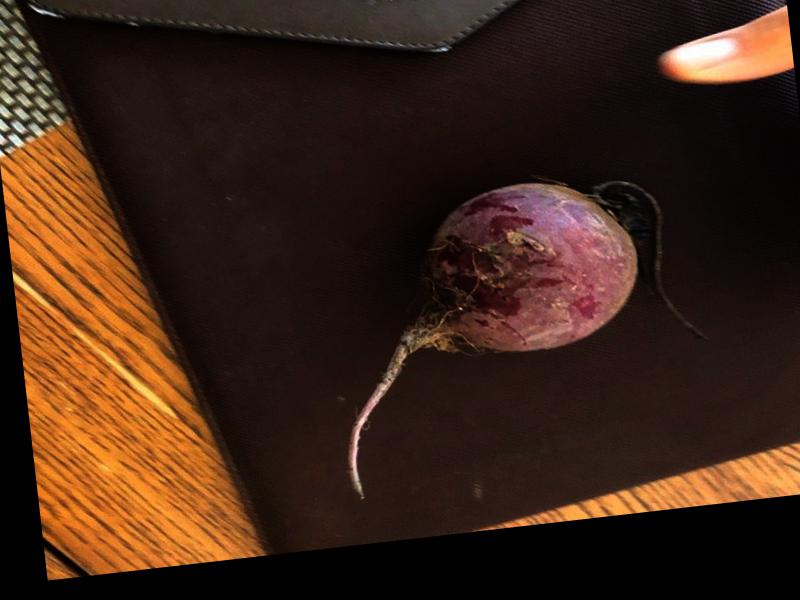Beet: (317, 165, 717, 498)
